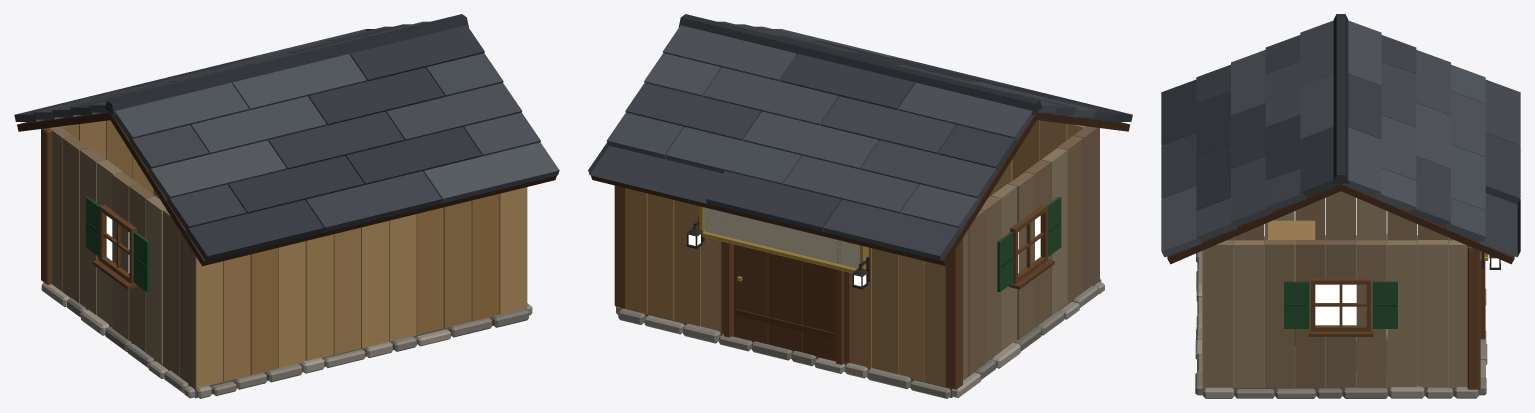
File: LandOffice.glb
3 views of the same model, side by side, from view 1: azimuth 30°, elevation 25°; view 2: azimuth 150°, elevation 25°; view 3: azimuth 270°, elevation 25° (orthographic). The views are drawn at different scales.
Parts seen in each view (by area): view 1: Body, Roof; view 2: Roof, Body, Door, Sign, Glow; view 3: Roof, Body, Glow, Counter.
Part boxes in pixels (box(x1,y1,x2,y2)): Body: box(41, 120, 532, 398); Roof: box(14, 14, 559, 266); Roof: box(588, 14, 1132, 265); Body: box(614, 120, 1104, 398); Door: box(734, 244, 835, 360); Sign: box(704, 207, 859, 268); Glow: box(688, 216, 1040, 286); Roof: box(1161, 14, 1520, 264); Body: box(1195, 191, 1500, 398); Glow: box(1315, 258, 1499, 325); Counter: box(1268, 220, 1315, 345).
Size of what is drawn, in the model's own units: 19.3 by 12.7 by 18.2.
